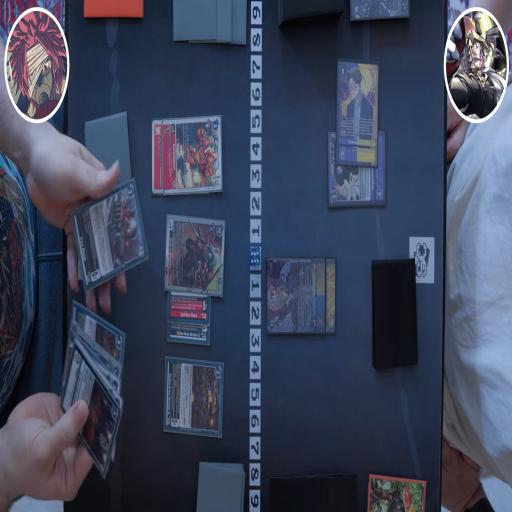card: (68, 174, 150, 286), (59, 339, 122, 474), (162, 354, 226, 441), (162, 112, 224, 197), (263, 258, 325, 336), (163, 215, 224, 294), (328, 129, 392, 202), (335, 66, 380, 164), (72, 292, 127, 372), (163, 288, 211, 326), (350, 0, 415, 27), (150, 112, 167, 196), (322, 252, 339, 336), (162, 320, 210, 346)
